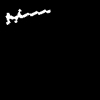double_crochet: (6, 9, 49, 24)
